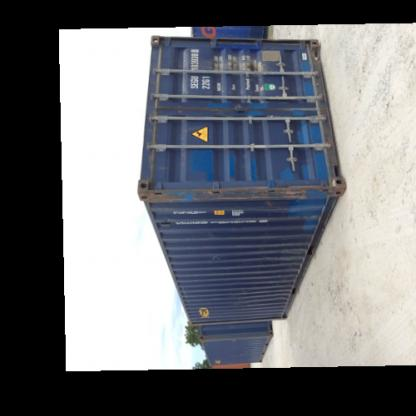Damage: (149, 182, 307, 204), (206, 244, 226, 270), (232, 284, 254, 306), (273, 268, 285, 300), (269, 231, 283, 253)
